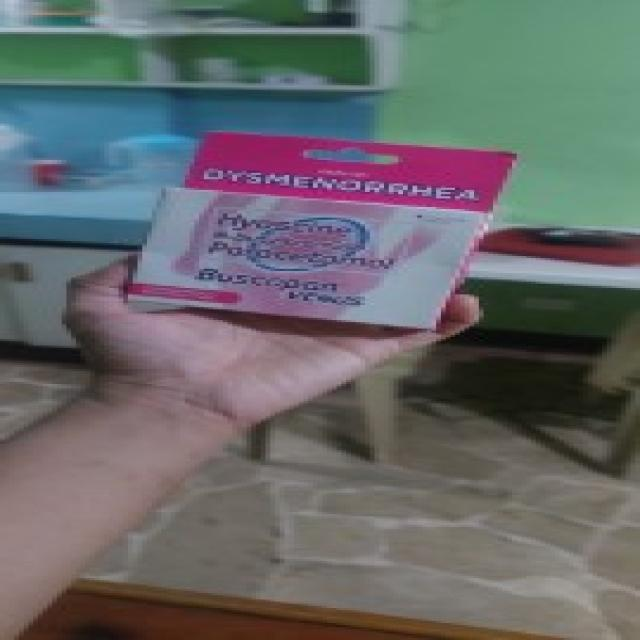Cacat: (130, 135, 519, 332)
